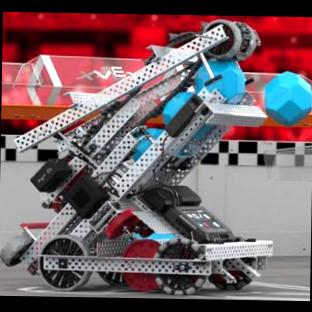Robot: (0, 18, 312, 295)
